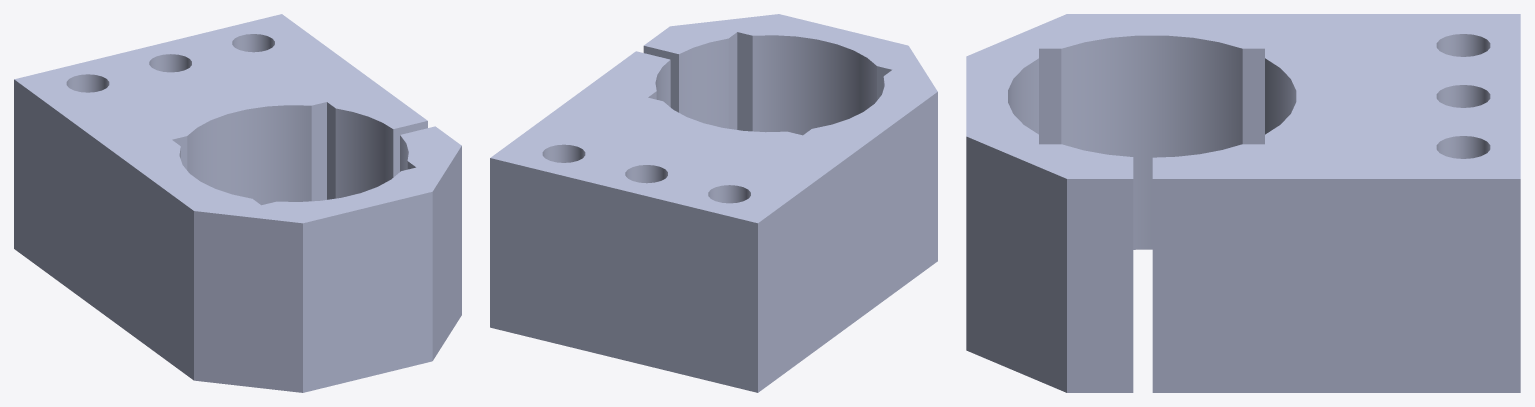
File: z_carriage.FBX
3 renders of one model, left to right at view 1: azimuth 30°, elevation 25°; view 2: azimuth 150°, elevation 25°; view 3: azimuth 270°, elevation 25°, orthographic. The views are drawn at different scales.
Visible parts, largest first — view 1: stitch_result_stitch all; view 2: stitch_result_stitch all; view 3: stitch_result_stitch all.
Boxes of the visible parts, bbox=[...] form: stitch_result_stitch all: bbox=[14, 14, 461, 392]; stitch_result_stitch all: bbox=[490, 14, 937, 392]; stitch_result_stitch all: bbox=[966, 14, 1520, 392].
Bounding box in the file's own units: 2.24 × 1.36 × 3.19.
